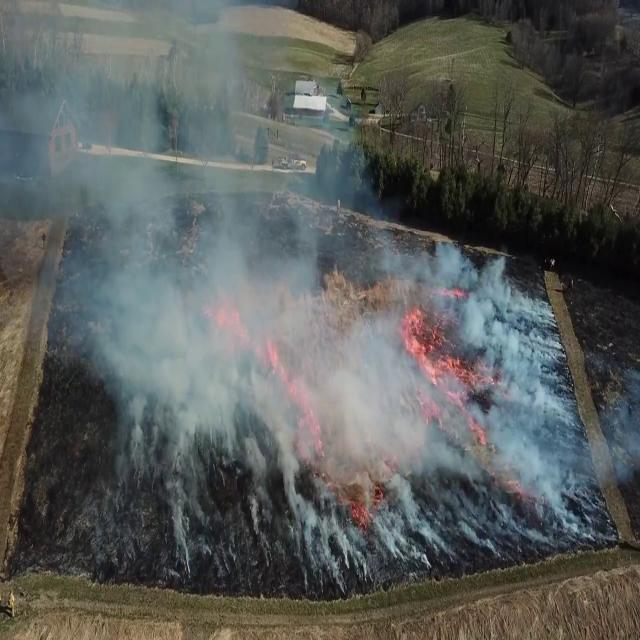Fire: (400, 294, 450, 379)
Smoke: (249, 210, 640, 556), (8, 7, 341, 406)
